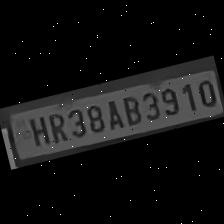0: (192, 75, 218, 109)
1: (174, 78, 200, 114)
3: (136, 86, 162, 122), (62, 104, 87, 140)
8: (80, 99, 108, 136)
9: (155, 84, 181, 119)
A: (101, 96, 125, 132)
B: (117, 91, 143, 128)
H: (23, 112, 52, 149)
R: (42, 107, 69, 145)
